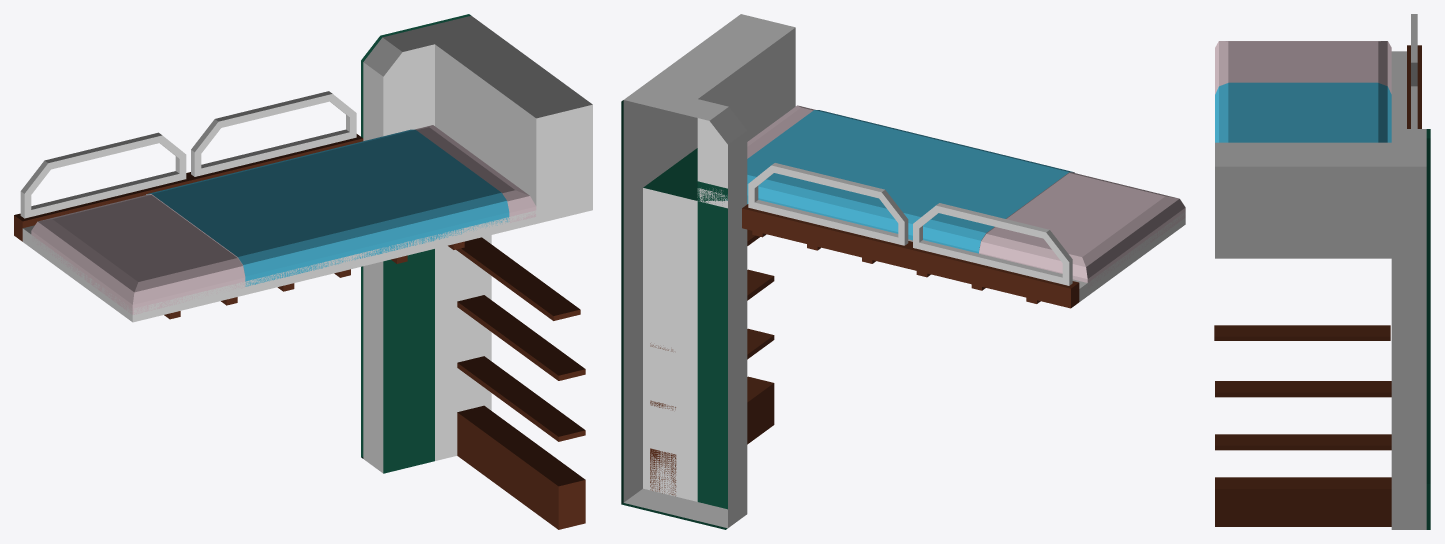
The model's file is Bunk Bed.fbx.
3 renders of one model, left to right at view 1: azimuth 30°, elevation 25°; view 2: azimuth 150°, elevation 25°; view 3: azimuth 270°, elevation 25°, orthographic. The views are drawn at different scales.
Parts seen in each view (by area): view 1: Bunk Bed; view 2: Bunk Bed; view 3: Bunk Bed.
Boxes of the visible parts, x1,y1,x2,y2 form: Bunk Bed: (14,14,592,529); Bunk Bed: (621,14,1185,529); Bunk Bed: (1214,14,1430,529).
Size of the model in its own units: 1.96 by 3.63 by 4.19.
